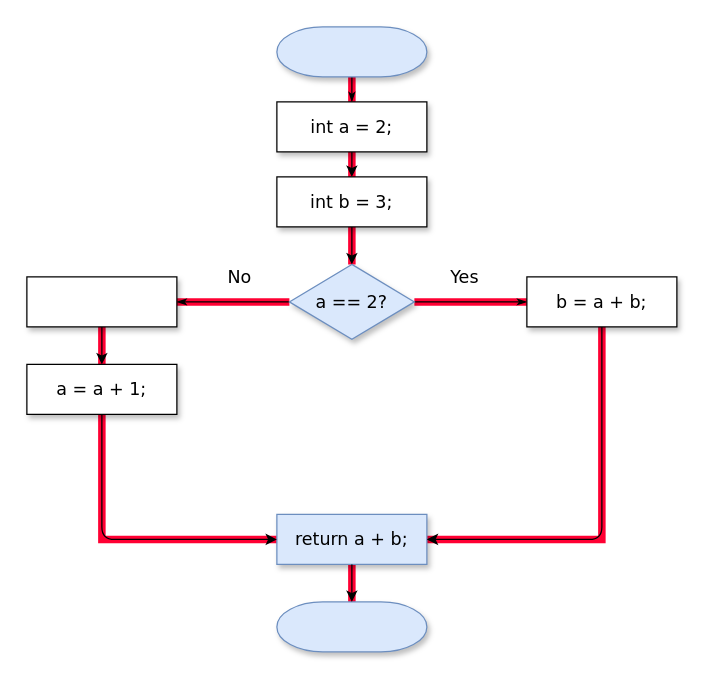
Image size: 706x683. Some labels were removed from this diagram. The centre of each missing label's shape, as x and y in pixels:
b = a;: [102,303]
End: [352,628]
Start: [352,53]
